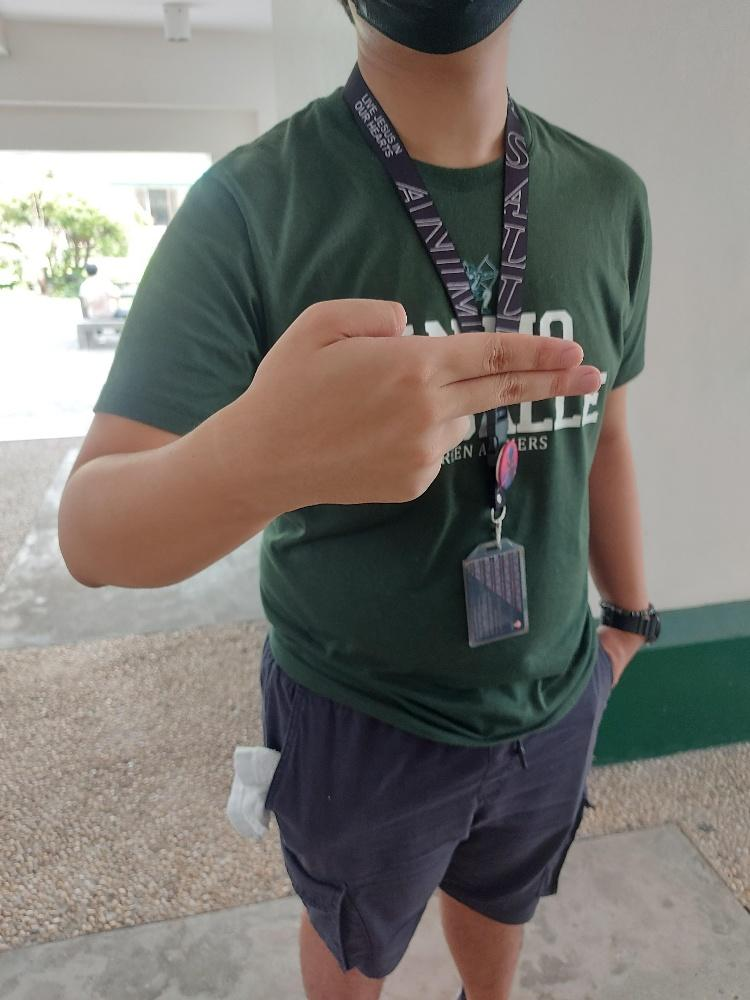h: (250, 293, 602, 507)
